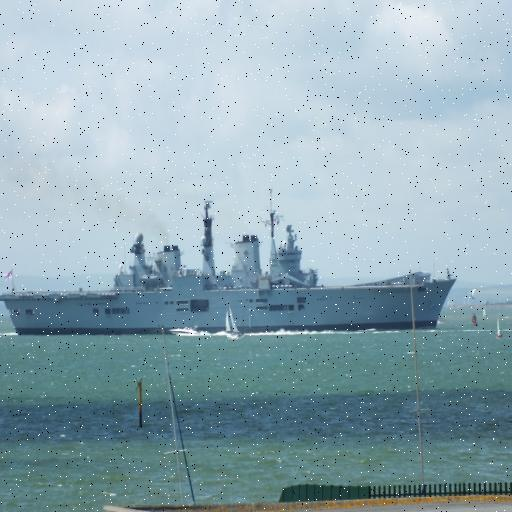Portanaves: (1, 186, 458, 340)
